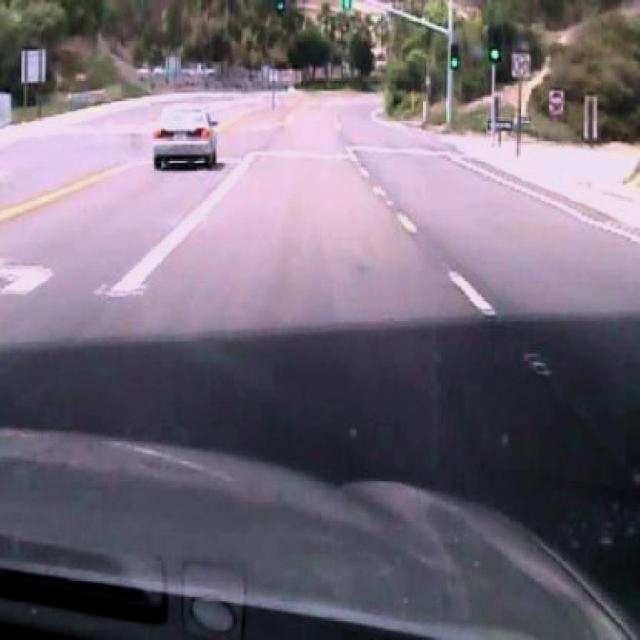noRightTurn: (511, 51, 531, 78)
